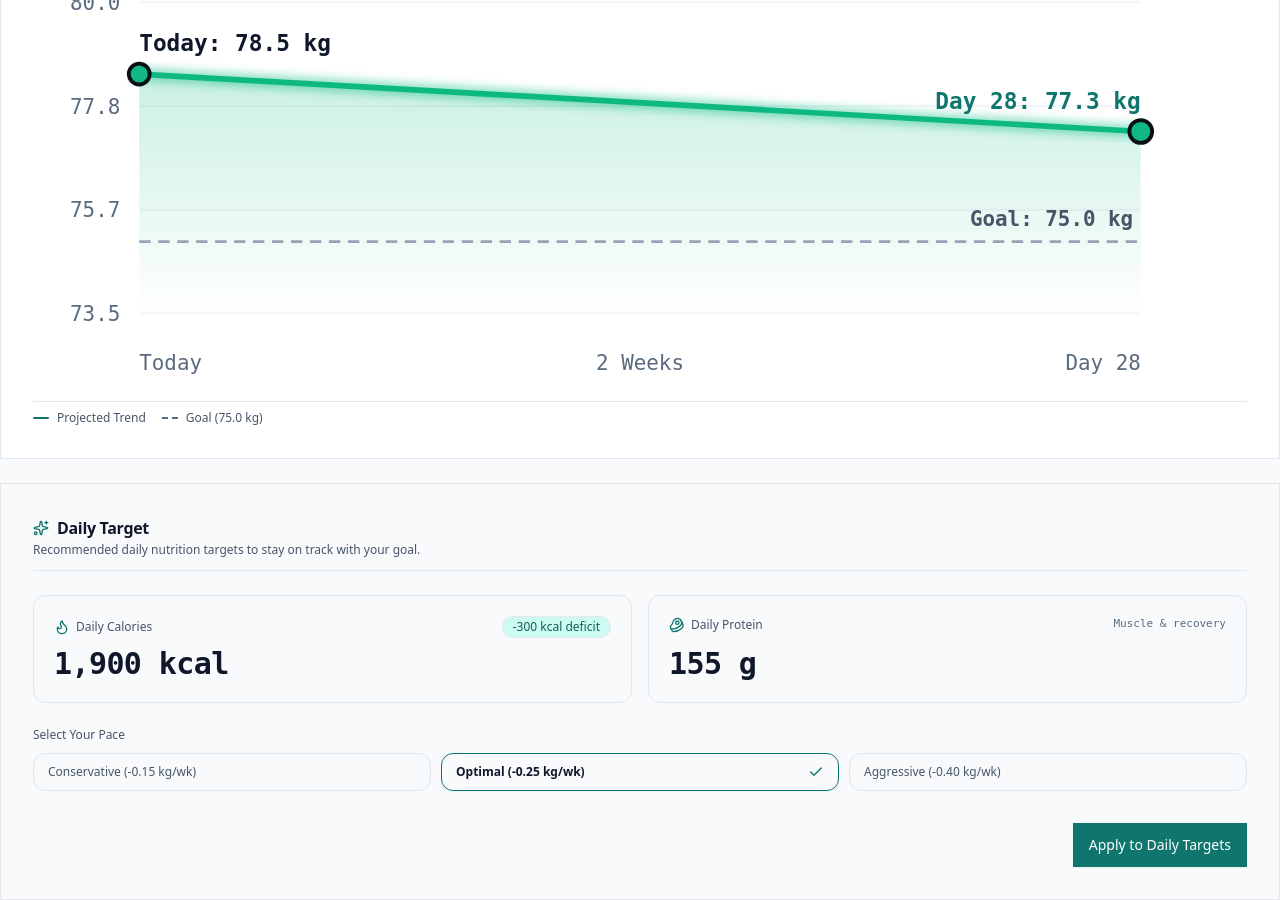
Test case: Milestone M7 — Weekly Review & Forecast Tabs › renders ForecastTab with hero ETA card, 30-Day Outlook, and interactive Daily Target pace chips
The width and height of the screenshot is (1280, 900).
(page scrolled)
Expected: the heading "Daily Target" is shown, [57,516,149,540]
Expected: the text "1,900 kcal" is shown, [54,646,229,681]
Click the radio button labelled "Aggressive (-0.40 kg/wk)".
click(932, 772)  # box [849,753,1247,791]
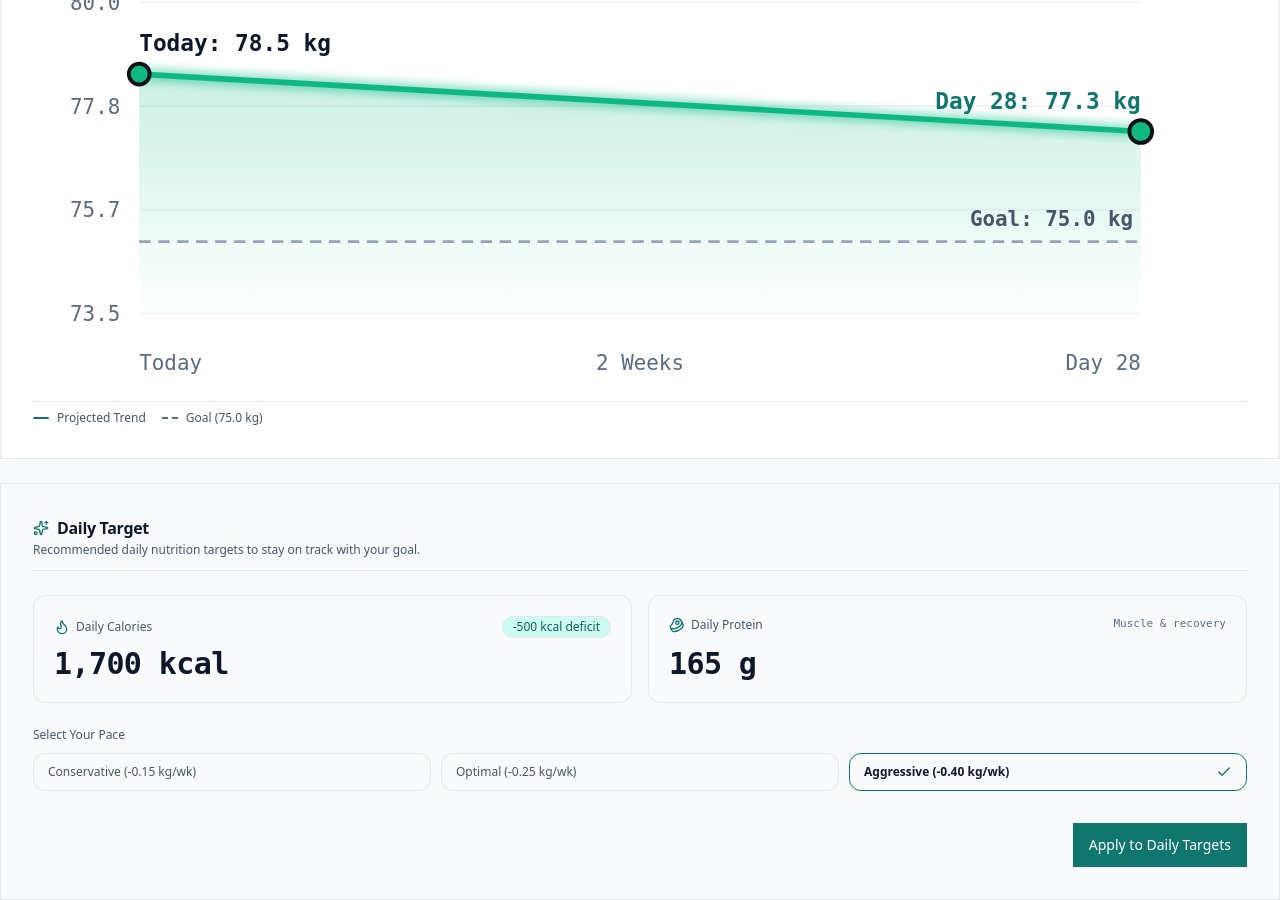
Expected: the text "1,700 kcal" is shown, [54,646,229,681]
Expected: the text "165 g" is shown, [669,646,756,681]
Click the radio button labelled "Conservative (-0.15 kg/wk)".
click(122, 772)  # box [33,753,431,791]
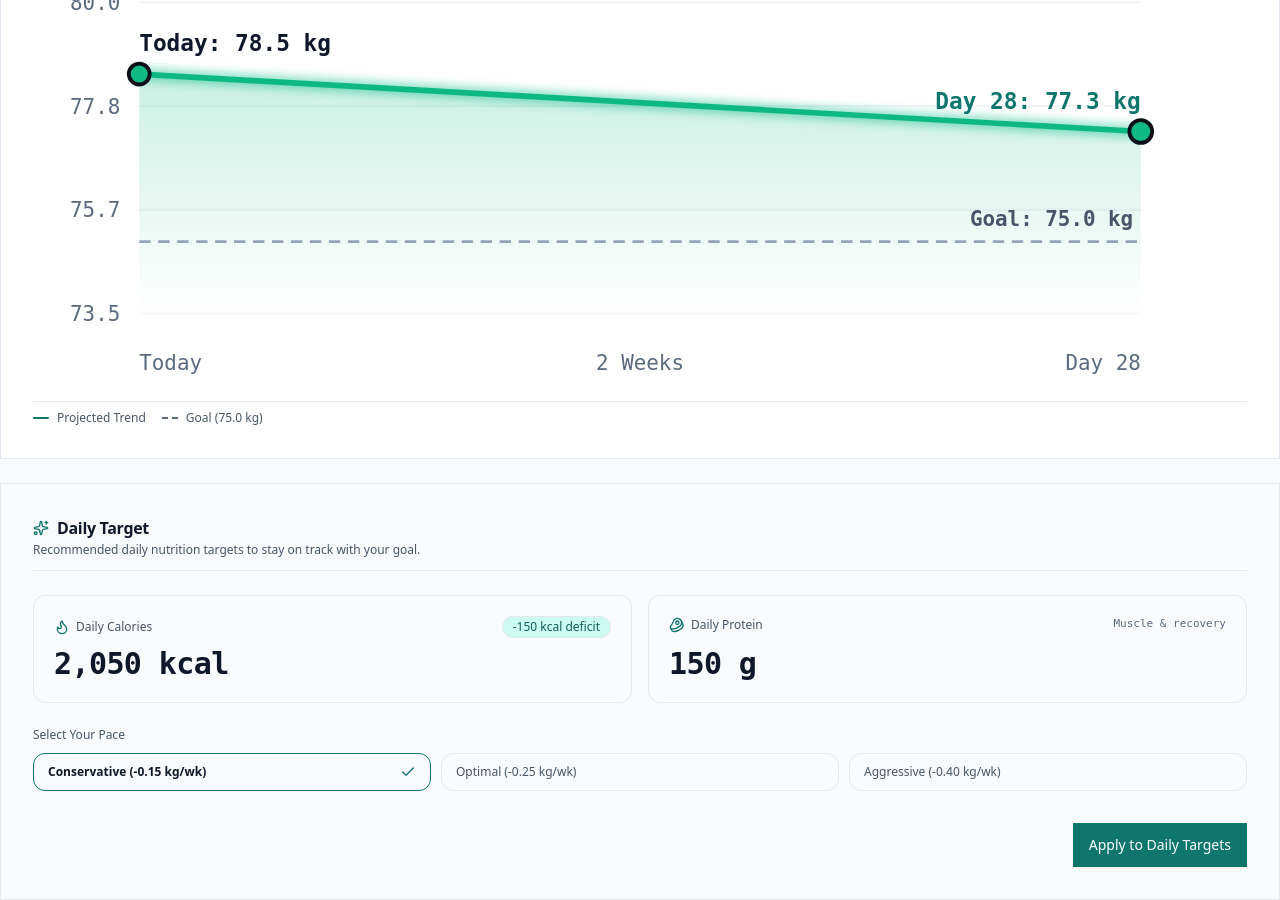
Expected: the button "Apply to Daily Targets" is shown, [1073,823,1247,867]
Expected: the text "2,050 kcal" is shown, [54,646,229,681]
Expected: the text "150 g" is shown, [669,646,756,681]
